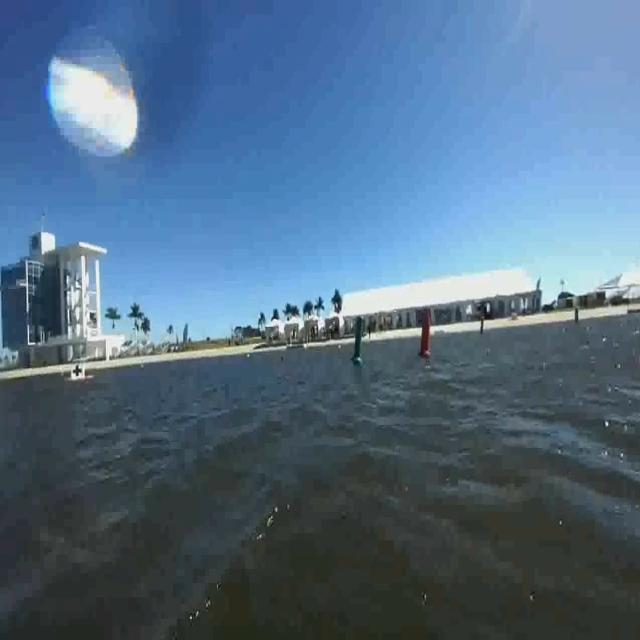green-column-buoy: (351, 314, 366, 364)
red-column-buoy: (417, 307, 435, 359)
